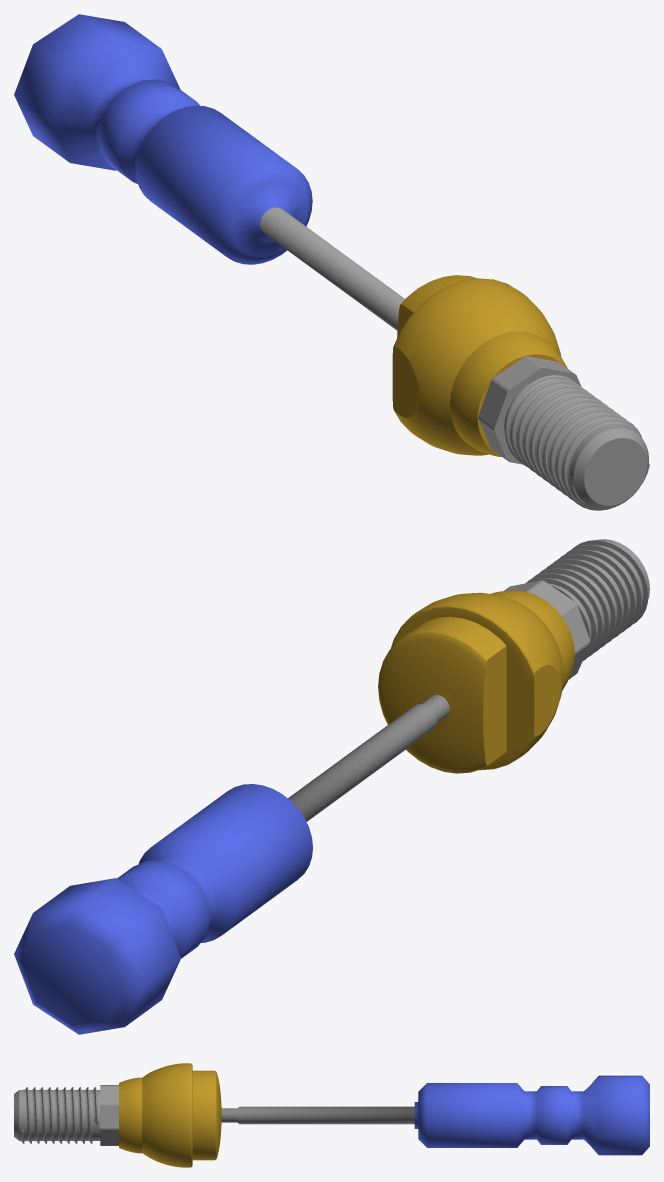
File: DriverWithHealingAbutment.fbx
The picture shows the model from 3 angles, top to bottom: view 1: azimuth 30°, elevation 25°; view 2: azimuth 150°, elevation 25°; view 3: azimuth 270°, elevation 25°; orthographic projection. The views are drawn at different scales.
Parts seen in each view (by area): view 1: DriverWithHealingAbutment, HealingAbutmentWithDriver; view 2: DriverWithHealingAbutment, HealingAbutmentWithDriver; view 3: DriverWithHealingAbutment, HealingAbutmentWithDriver.
Boxes of the visible parts, <box> form: DriverWithHealingAbutment: <box>14,14,404,330</box>; HealingAbutmentWithDriver: <box>392,275,649,510</box>; DriverWithHealingAbutment: <box>14,694,449,1034</box>; HealingAbutmentWithDriver: <box>378,539,649,773</box>; DriverWithHealingAbutment: <box>221,1075,649,1155</box>; HealingAbutmentWithDriver: <box>14,1063,221,1167</box>.
Size of the model in its own units: 0.9485 by 0.9928 by 6.05.
